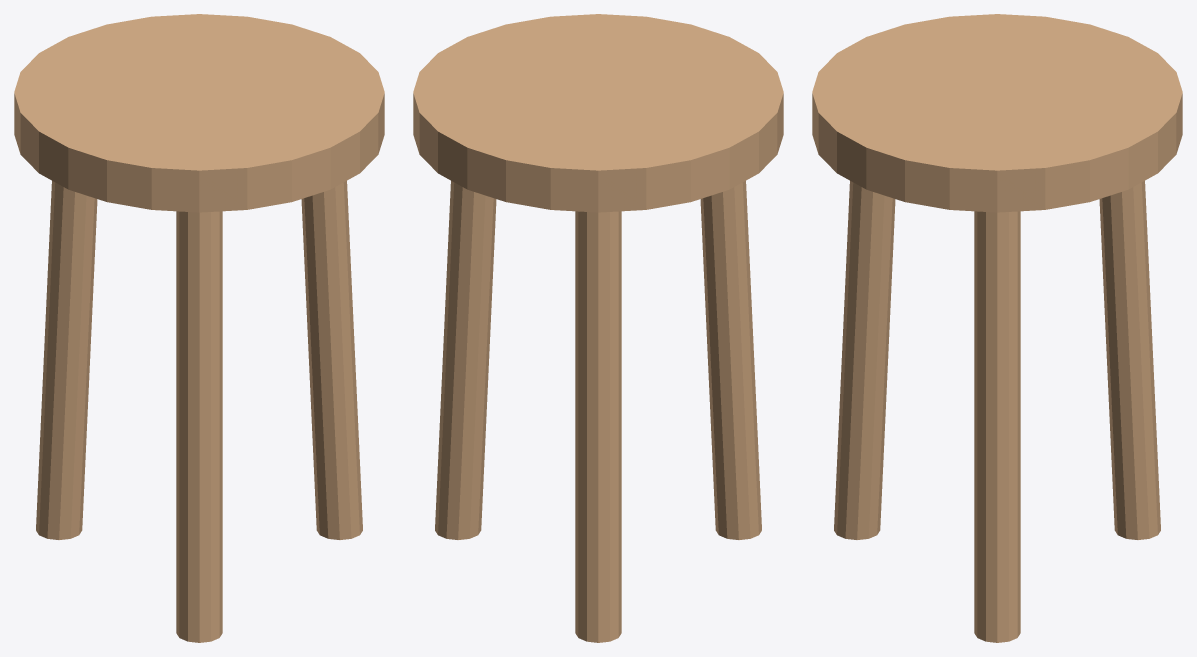
The model's file is three_leg_stool_v9_first_build.glb.
3 renders of one model, left to right at view 1: azimuth 30°, elevation 25°; view 2: azimuth 150°, elevation 25°; view 3: azimuth 270°, elevation 25°, orthographic.
Parts seen in each view (by area): view 1: Stool; view 2: Stool; view 3: Stool.
Boxes of the visible parts, x1,y1,x2,y2 form: Stool: (14,14,384,642); Stool: (413,14,783,642); Stool: (812,14,1182,642).
Size of the model in its own units: 0.32 by 0.45 by 0.32.
